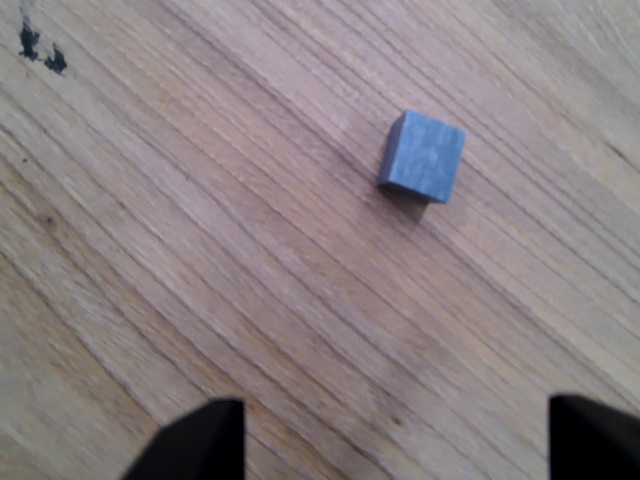stone: (375, 109, 467, 204)
